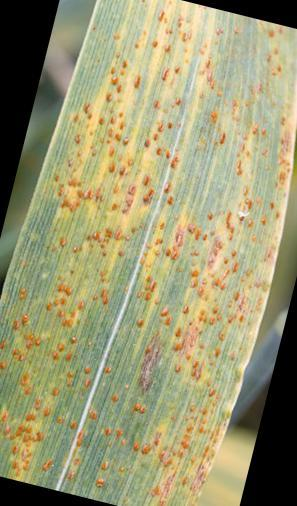Wheat: (68, 160, 270, 272), (118, 30, 297, 154), (35, 281, 227, 389), (9, 395, 199, 460)
